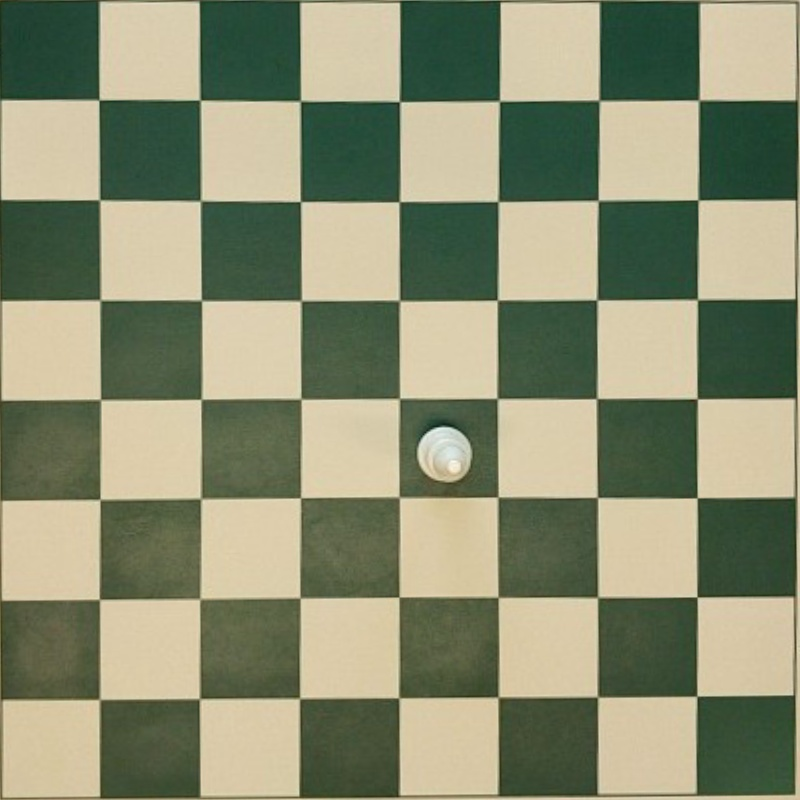white-bishop: (417, 424, 473, 483)
